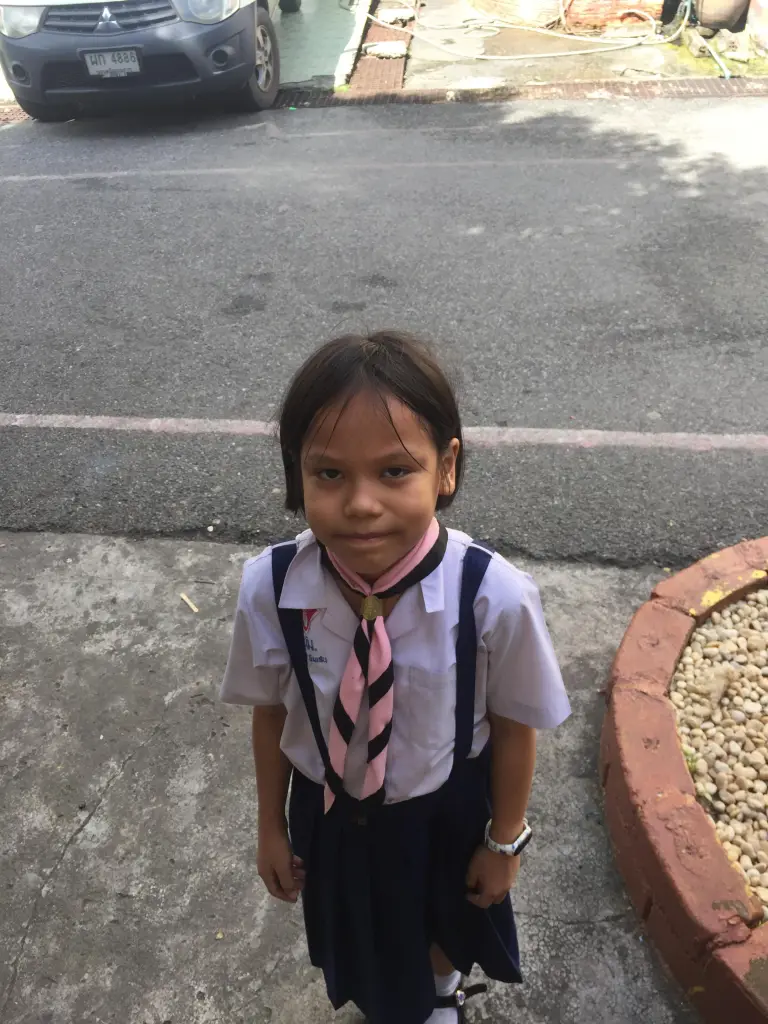People: (221, 331, 568, 1023)
